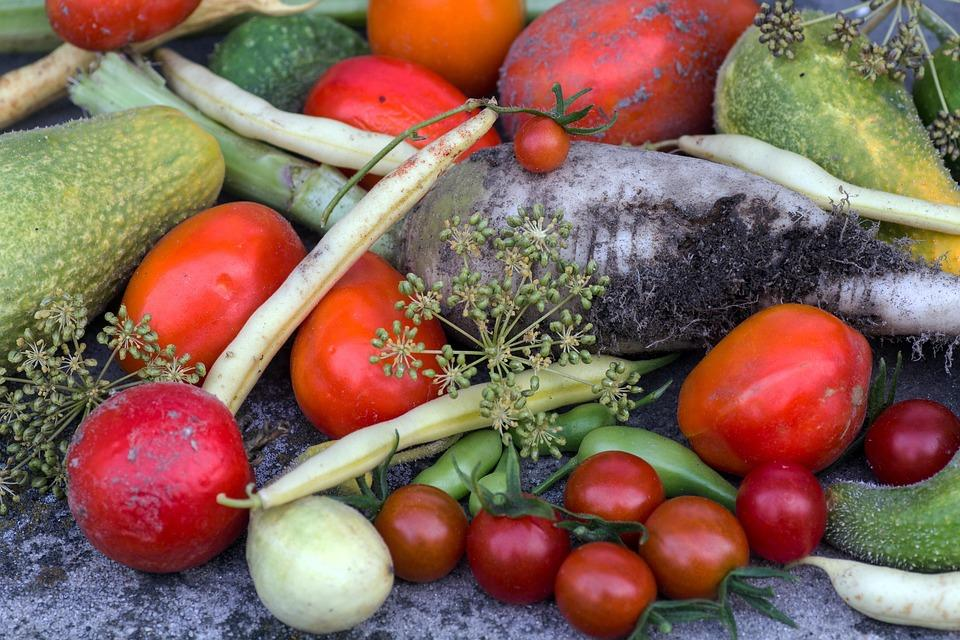apple: (70, 380, 258, 574), (676, 305, 874, 477), (121, 200, 310, 377), (376, 484, 472, 585), (566, 452, 669, 526)
